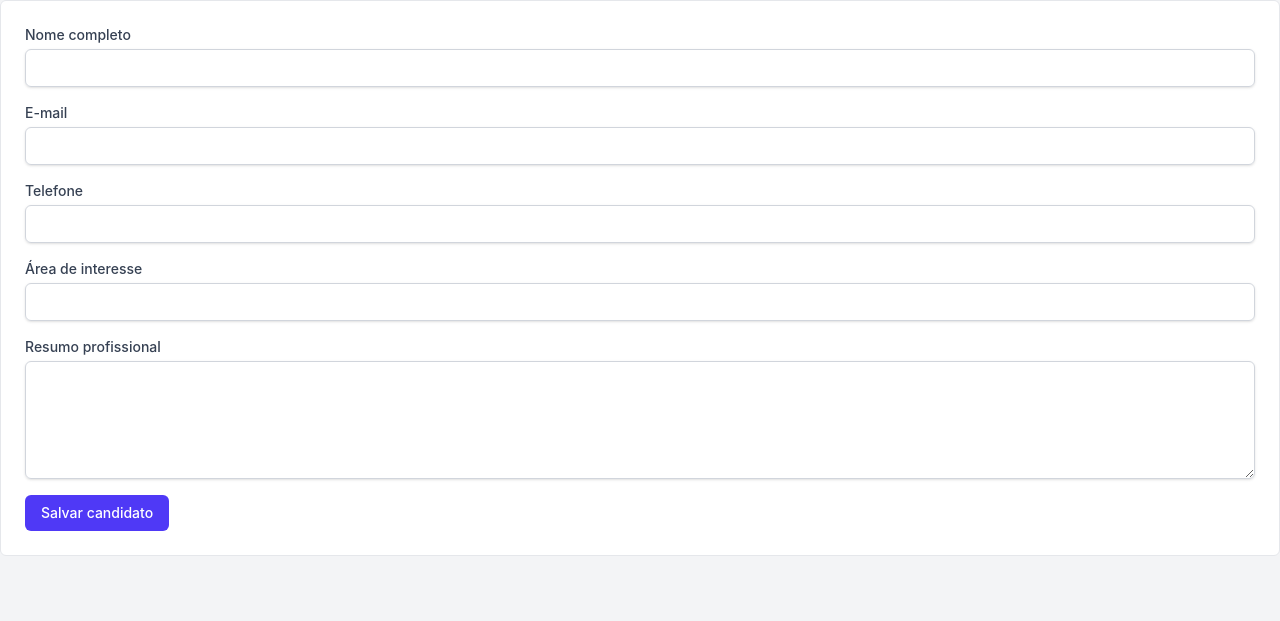
Test: CandidatoForm › exibe erros de validação ao submeter o formulário vazio
Click the button "Salvar candidato".
click(97, 513)  # box x1=25 y1=495 x2=169 y2=531
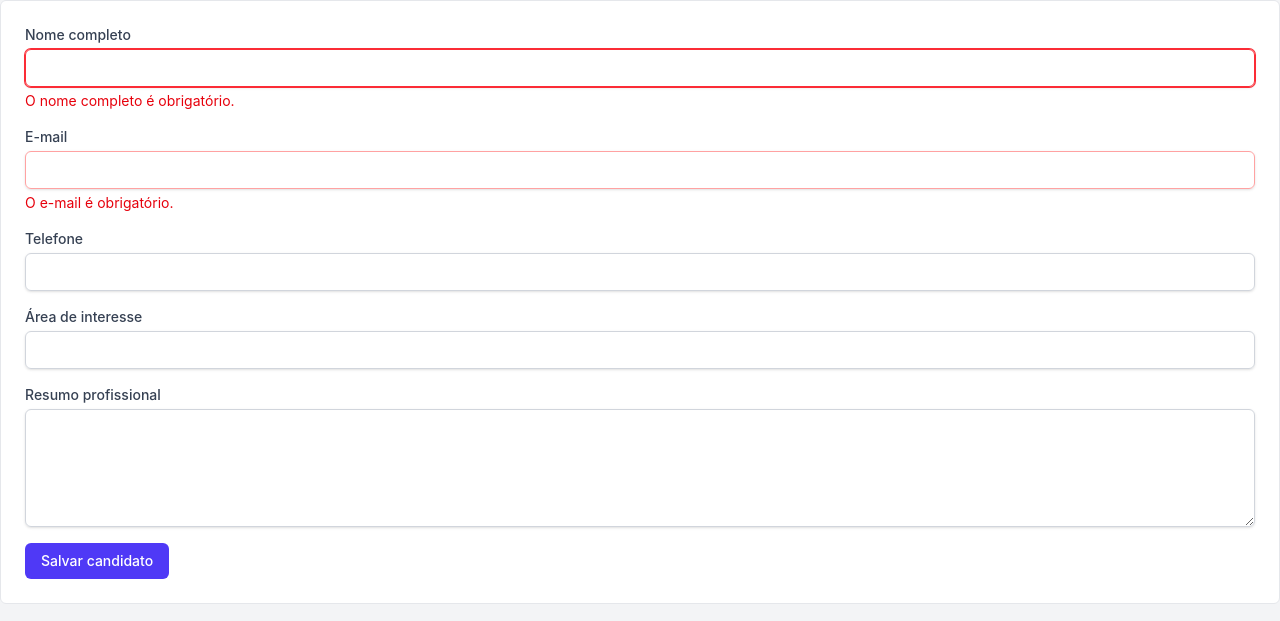
Result: the text "O nome completo é obrigatório." is shown at x1=25 y1=92 x2=235 y2=109
Result: the text "O e-mail é obrigatório." is shown at x1=25 y1=194 x2=174 y2=211
